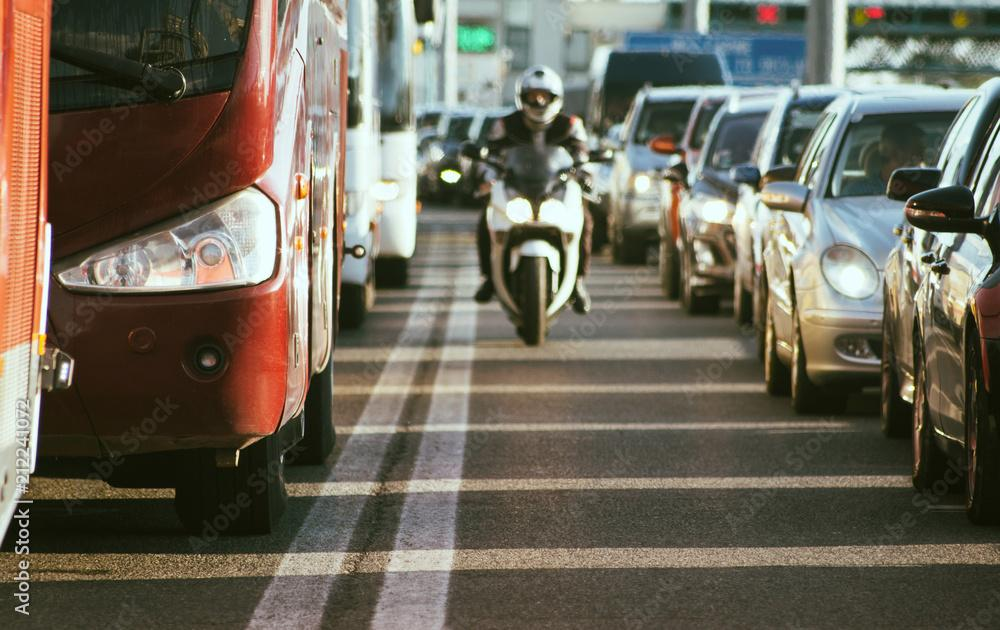helmet: (515, 64, 566, 127)
